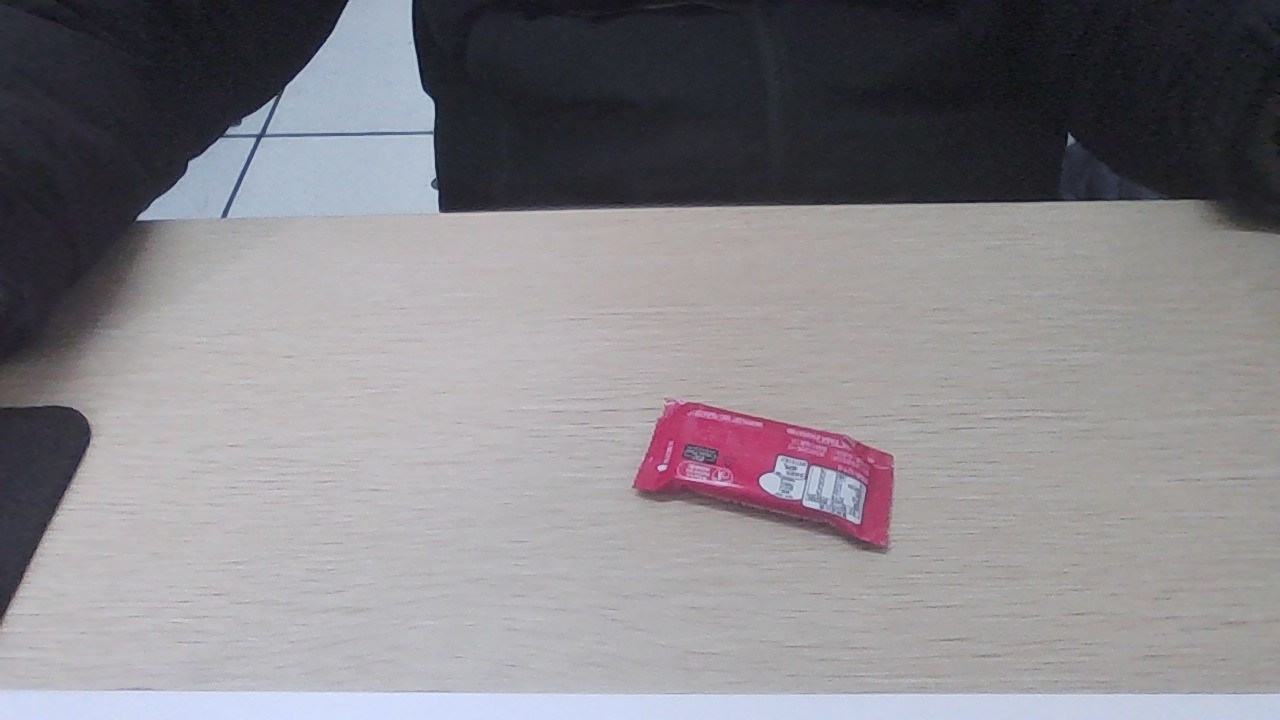CY-chocolate: (653, 391, 886, 535)
